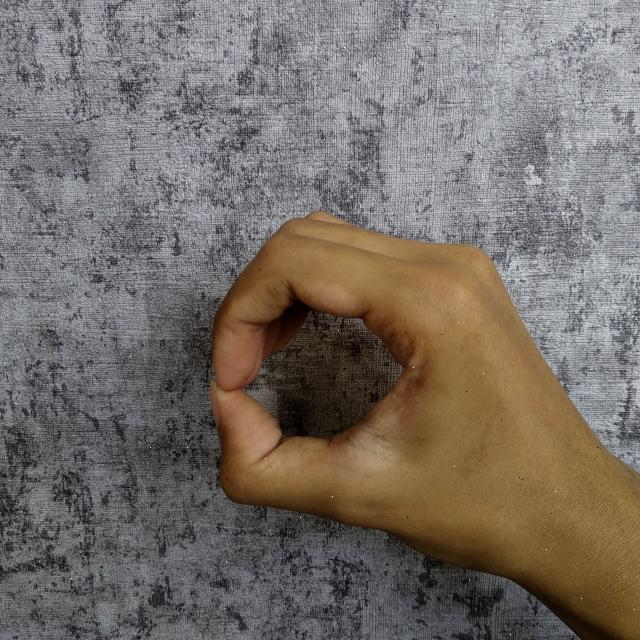O: (205, 206, 640, 640)
